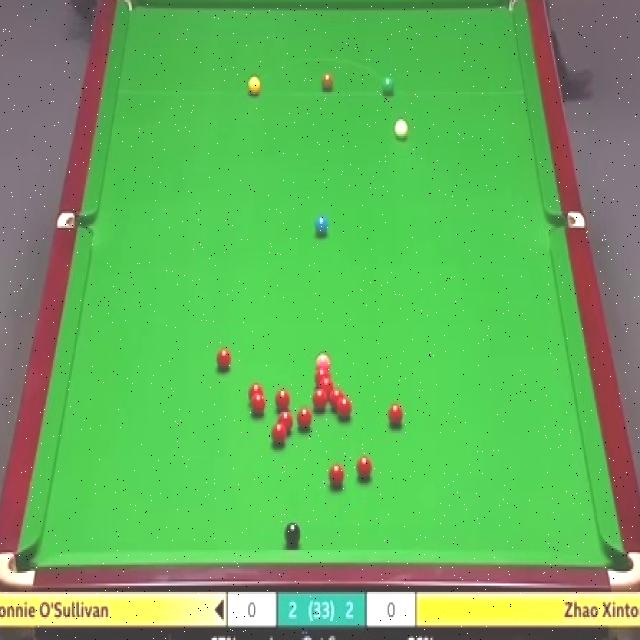black-ball: (284, 519, 301, 548)
blue-ball: (313, 214, 329, 239)
brown-ball: (320, 74, 333, 92)
green-ball: (382, 76, 394, 96)
pink-ball: (314, 351, 330, 366)
red-ball: (272, 422, 290, 449), (337, 395, 353, 420), (388, 404, 405, 427), (216, 346, 231, 371), (328, 464, 345, 486), (251, 396, 267, 419), (297, 407, 313, 430), (356, 456, 372, 479), (248, 382, 265, 402), (276, 391, 290, 412), (310, 390, 327, 407), (280, 412, 295, 431), (330, 391, 346, 408), (316, 376, 335, 390), (314, 368, 332, 378)
white-ball: (394, 118, 409, 142)
yellow-ball: (247, 75, 262, 96)
